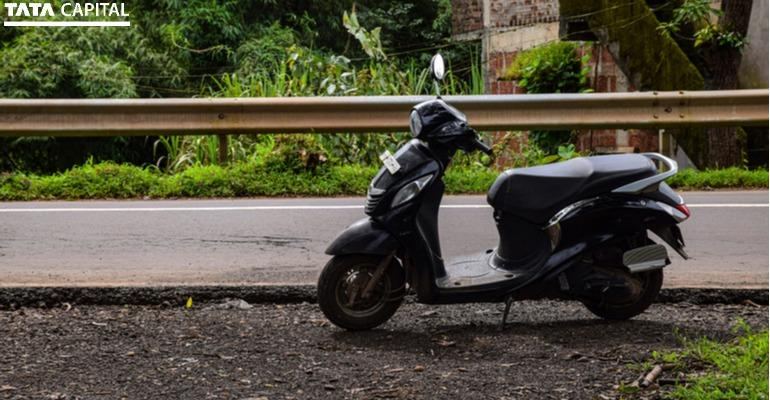bike: (333, 80, 696, 333)
